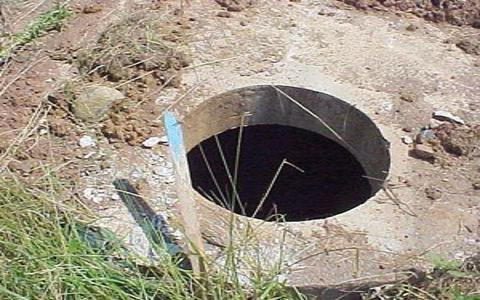open manhole: (102, 77, 397, 221)
